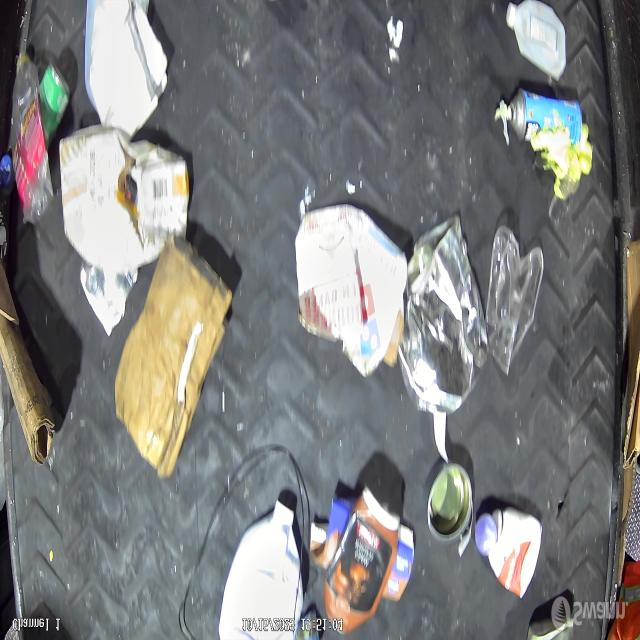can: (426, 451, 476, 555), (33, 52, 70, 144)
milk_jug: (213, 498, 307, 638), (504, 0, 578, 74)
plastic_bottle: (7, 50, 55, 219)
